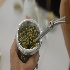guampa: (14, 17, 48, 64)
